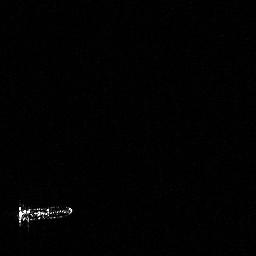ship: (12, 199, 74, 230)
